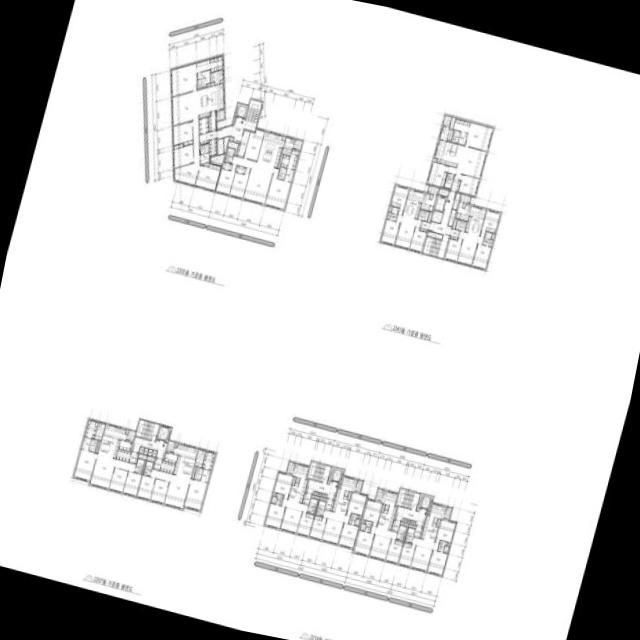background: (0, 0, 640, 640)
space_balconi: (293, 139, 302, 150), (216, 109, 224, 120)
space_bedroom: (265, 167, 291, 209), (171, 62, 197, 96), (464, 122, 492, 151), (73, 449, 97, 481), (184, 478, 207, 510), (195, 163, 221, 191), (243, 128, 264, 160), (216, 164, 237, 195), (229, 168, 250, 198), (427, 162, 449, 187), (273, 472, 293, 499), (362, 499, 382, 526), (353, 530, 374, 555), (427, 550, 448, 575), (264, 503, 285, 528), (338, 523, 359, 548), (480, 210, 500, 236), (390, 186, 408, 214), (172, 121, 192, 146), (173, 143, 193, 168), (346, 492, 367, 515), (435, 519, 456, 542), (122, 471, 141, 496), (136, 475, 155, 500), (381, 219, 400, 244), (472, 243, 491, 268), (150, 479, 169, 503), (109, 467, 127, 492), (458, 174, 479, 195), (296, 512, 314, 536), (385, 539, 403, 563), (309, 515, 326, 540), (398, 542, 415, 567), (409, 227, 426, 251), (445, 238, 462, 261), (235, 165, 245, 174), (222, 162, 232, 170)
space_dressroom: (84, 419, 98, 438), (202, 450, 215, 470), (453, 118, 470, 132), (287, 150, 299, 169), (210, 55, 223, 72), (280, 154, 289, 167)
space_elevator: (156, 425, 171, 442), (330, 467, 344, 483), (234, 103, 248, 118), (419, 495, 433, 510), (434, 195, 446, 211)
space_elevator_hall: (217, 88, 265, 142), (428, 191, 456, 241), (306, 465, 337, 499), (395, 492, 426, 526), (131, 437, 167, 458)
space_front: (236, 130, 250, 157), (199, 130, 216, 144), (160, 460, 175, 473), (116, 449, 131, 461), (199, 117, 208, 134), (209, 138, 217, 156), (152, 458, 162, 470), (419, 221, 429, 232), (302, 492, 311, 504), (325, 498, 334, 510), (414, 526, 423, 537), (129, 452, 138, 463), (391, 520, 400, 531), (451, 180, 460, 191), (450, 229, 459, 240)
space_kitchen: (455, 202, 486, 236), (98, 424, 127, 458), (421, 503, 446, 542), (332, 476, 357, 515), (257, 131, 284, 167), (402, 190, 436, 218), (197, 83, 224, 118), (173, 443, 198, 479), (288, 463, 309, 503), (377, 490, 398, 530), (434, 139, 462, 167), (118, 440, 132, 451), (164, 452, 177, 463)
space_living_room: (172, 90, 199, 185), (231, 156, 274, 204), (89, 454, 135, 489), (150, 469, 190, 509), (447, 146, 486, 181), (321, 509, 349, 544), (280, 498, 308, 533), (410, 537, 438, 571), (369, 526, 397, 560), (395, 214, 421, 248), (457, 231, 483, 265)
space_other: (282, 136, 295, 155), (439, 126, 453, 141), (194, 449, 205, 467), (94, 422, 105, 440), (210, 69, 223, 84), (208, 111, 216, 131), (431, 210, 443, 223), (447, 209, 456, 226), (228, 141, 238, 154), (211, 154, 224, 164), (452, 193, 460, 209), (427, 231, 442, 239), (217, 138, 223, 155), (223, 136, 229, 153), (327, 467, 333, 483), (416, 494, 422, 510), (438, 188, 449, 196), (278, 154, 283, 168), (95, 440, 100, 452), (191, 466, 196, 478), (450, 117, 455, 128), (452, 218, 457, 229), (427, 212, 432, 222), (319, 496, 327, 501), (311, 494, 319, 499), (146, 456, 154, 461), (138, 454, 146, 459), (400, 521, 408, 526), (206, 82, 214, 86), (347, 491, 351, 499), (381, 504, 385, 512), (436, 519, 440, 527), (408, 524, 416, 528), (292, 477, 296, 485), (152, 450, 157, 456), (143, 448, 148, 454), (147, 449, 152, 455), (139, 447, 144, 453), (202, 162, 209, 166), (232, 117, 235, 125), (282, 135, 286, 140), (491, 233, 494, 239), (389, 206, 392, 212), (229, 136, 233, 140), (447, 542, 451, 546), (175, 442, 178, 447), (322, 493, 327, 496), (402, 518, 407, 521), (313, 491, 318, 494), (220, 79, 223, 83), (462, 204, 465, 208), (318, 492, 322, 495), (407, 519, 411, 522), (411, 521, 415, 524), (361, 519, 364, 523), (358, 515, 362, 518), (429, 195, 432, 199), (433, 158, 436, 162), (272, 492, 275, 495), (427, 511, 429, 513), (338, 484, 340, 486)
space_outdoor_room: (427, 185, 439, 195), (442, 115, 452, 126), (459, 194, 470, 204), (166, 440, 175, 452), (444, 507, 452, 520), (375, 488, 383, 501), (355, 480, 363, 493), (286, 461, 294, 474), (126, 430, 135, 441)
space_staircase: (422, 237, 447, 258), (135, 419, 159, 440), (396, 488, 415, 508), (307, 461, 326, 481), (250, 100, 262, 123)
space_toilet: (197, 70, 210, 89), (451, 130, 467, 144), (196, 59, 209, 72), (387, 207, 399, 221), (482, 231, 493, 246), (134, 458, 144, 474), (143, 460, 153, 476), (224, 147, 234, 163), (316, 500, 326, 515), (405, 527, 415, 542), (396, 525, 406, 540), (307, 498, 317, 513), (444, 173, 454, 188), (417, 209, 429, 221), (455, 219, 467, 231), (200, 469, 211, 482), (81, 437, 91, 450), (284, 168, 294, 181), (437, 540, 447, 551), (348, 513, 358, 524), (200, 152, 209, 164), (364, 520, 372, 532), (275, 493, 283, 505), (277, 172, 285, 179), (90, 439, 98, 446), (195, 467, 203, 474), (204, 143, 209, 153), (89, 445, 96, 452), (194, 473, 201, 480), (279, 167, 286, 174), (360, 523, 366, 530), (354, 518, 360, 525), (271, 496, 277, 503), (200, 144, 204, 154), (443, 545, 448, 553)
